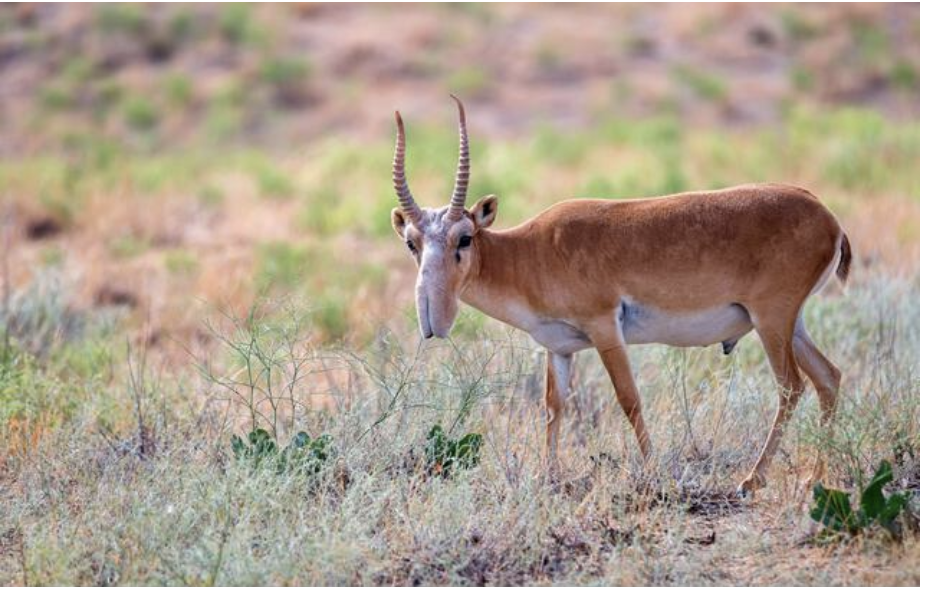saiga: (381, 83, 865, 500)
